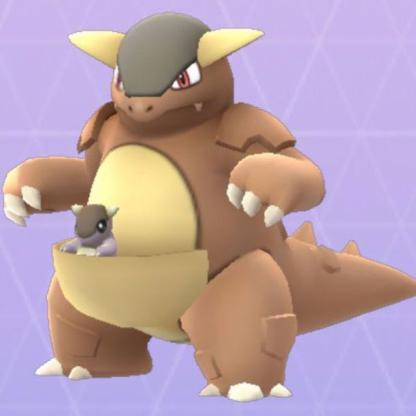Kangaskhan: (2, 7, 416, 400)
